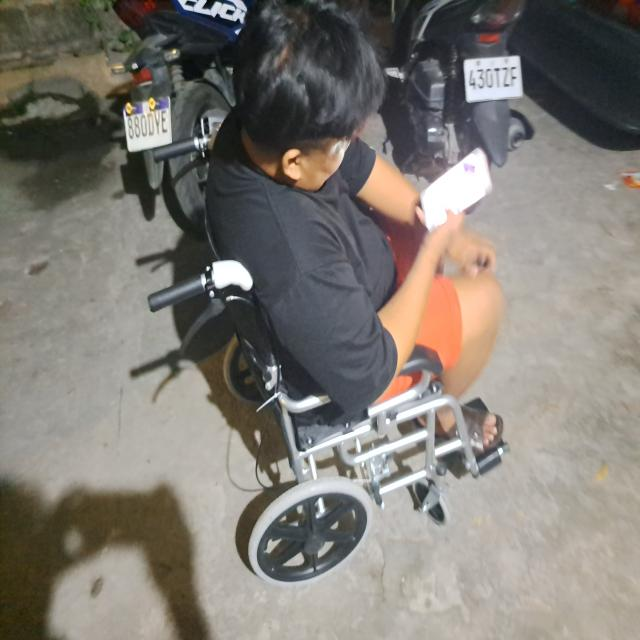wheelchairs: (148, 143, 527, 586)
